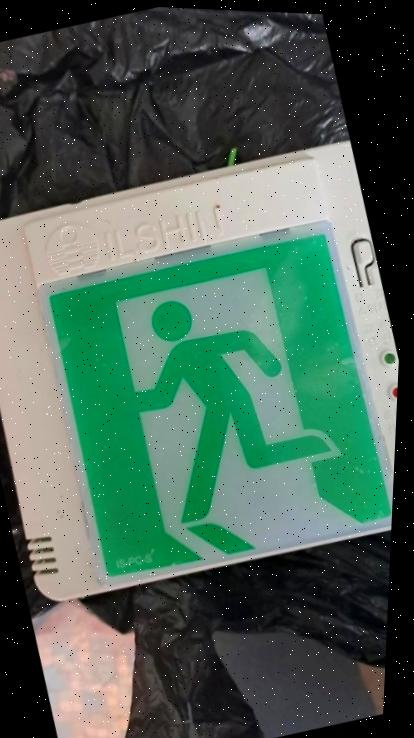emergency_exit: (2, 141, 401, 604), (31, 218, 395, 598)
